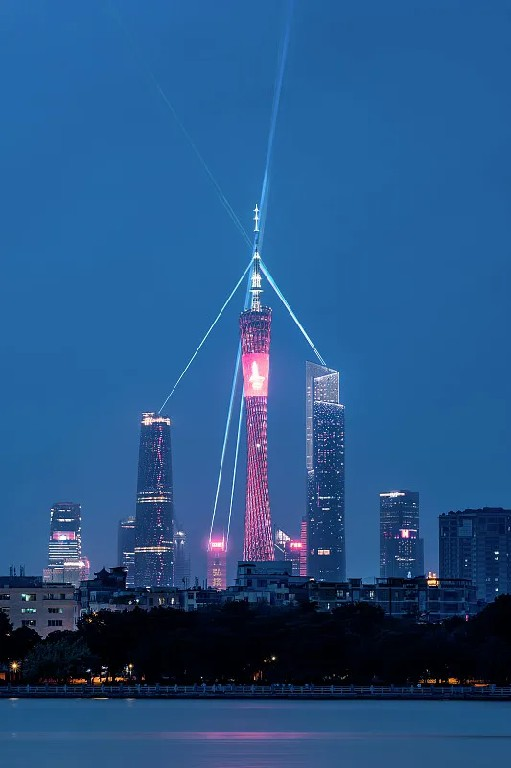Canton: (239, 205, 272, 561)
